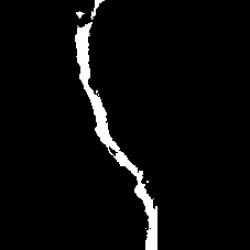crack: (74, 2, 158, 249), (77, 12, 84, 18)
